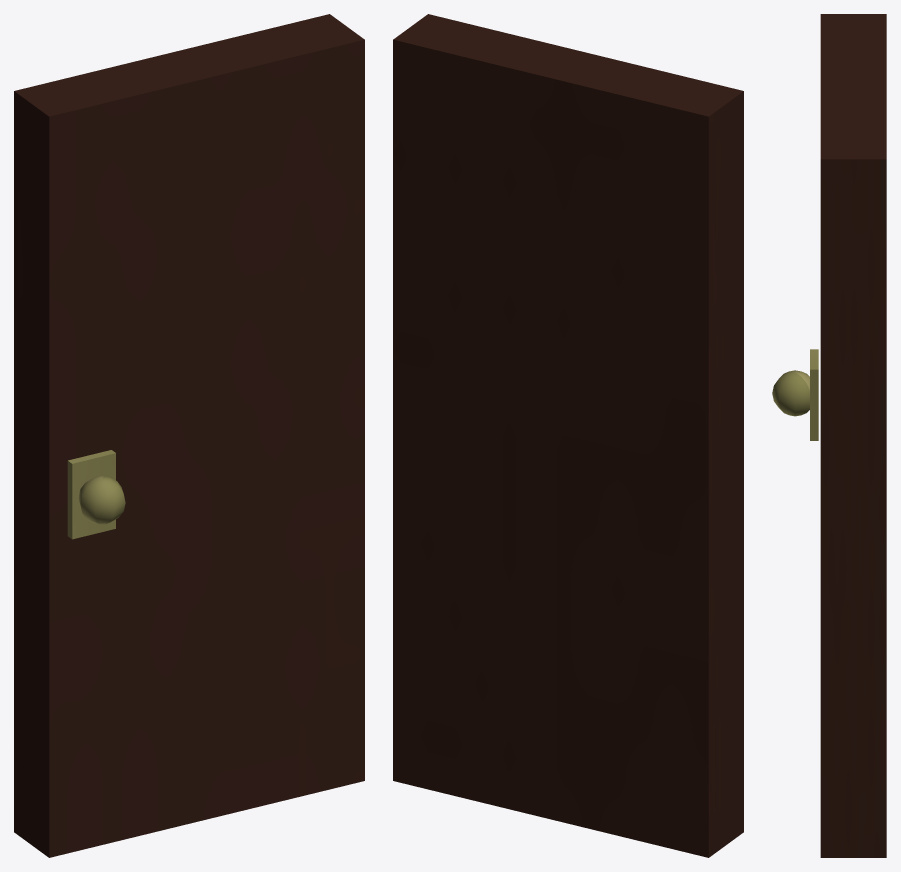
Rendered from porta_direita.fbx.
3 views of the same model, side by side, from view 1: azimuth 30°, elevation 25°; view 2: azimuth 150°, elevation 25°; view 3: azimuth 270°, elevation 25° (orthographic). The views are drawn at different scales.
Parts seen in each view (by area): view 1: pCube104; view 2: pCube104; view 3: pCube104.
Part boxes in pixels (<box>): pCube104: <box>14,14,364,857</box>; pCube104: <box>393,14,743,857</box>; pCube104: <box>772,14,886,857</box>.
Size of the model in its own units: 0.9691 by 2.17 by 0.3232.
